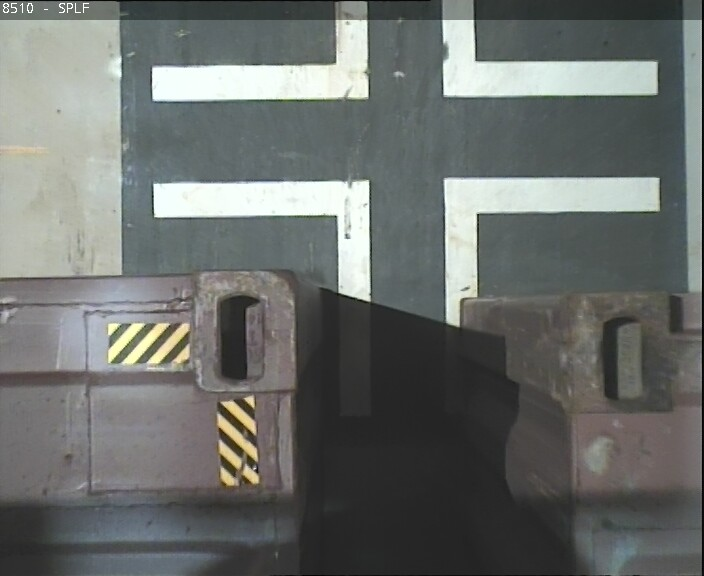groundmarker_1: (154, 177, 655, 412), (152, 1, 654, 102)
